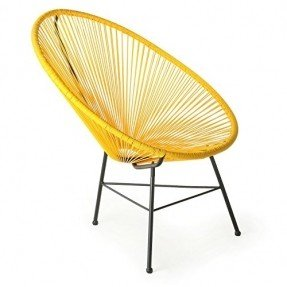chairs: (31, 8, 242, 277)
